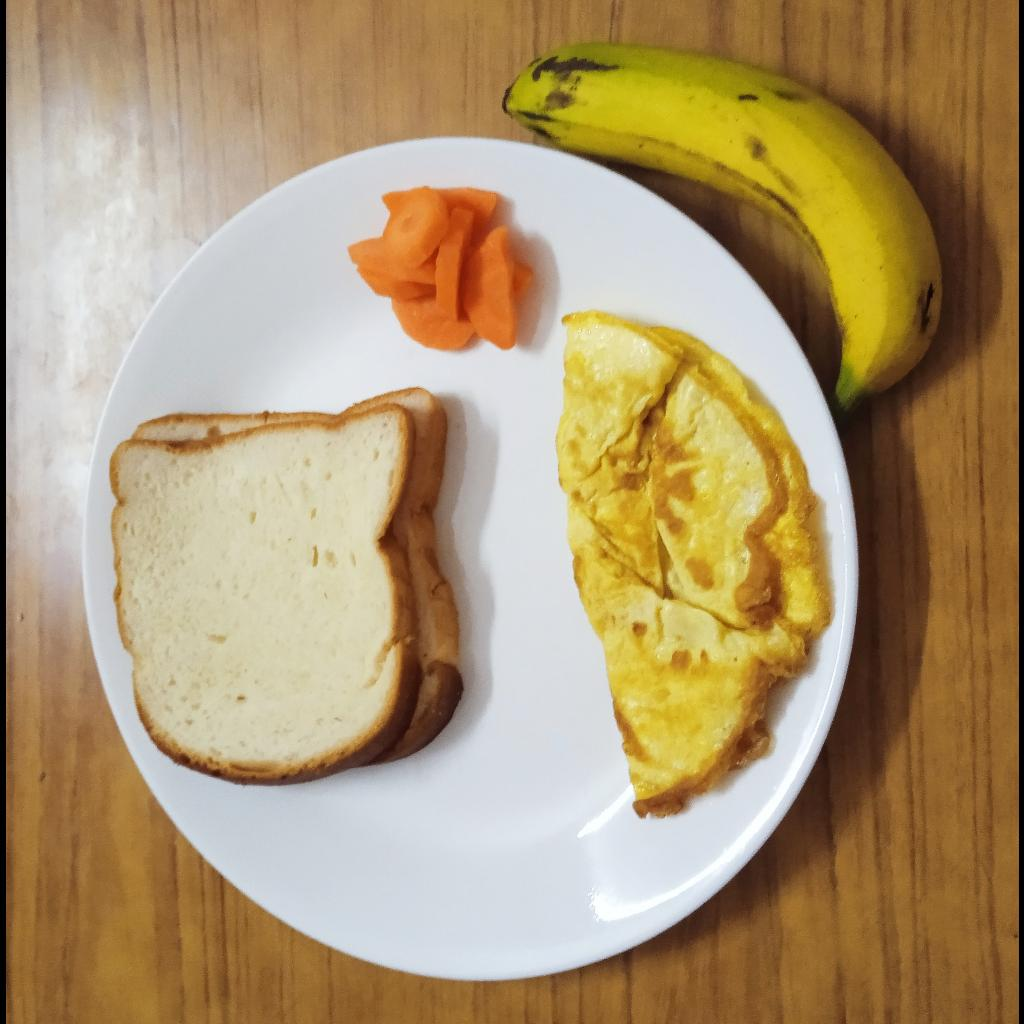banana: (499, 42, 946, 409)
bread: (105, 383, 462, 788)
carrot: (343, 184, 534, 350)
egg-poached: (553, 313, 834, 819)
